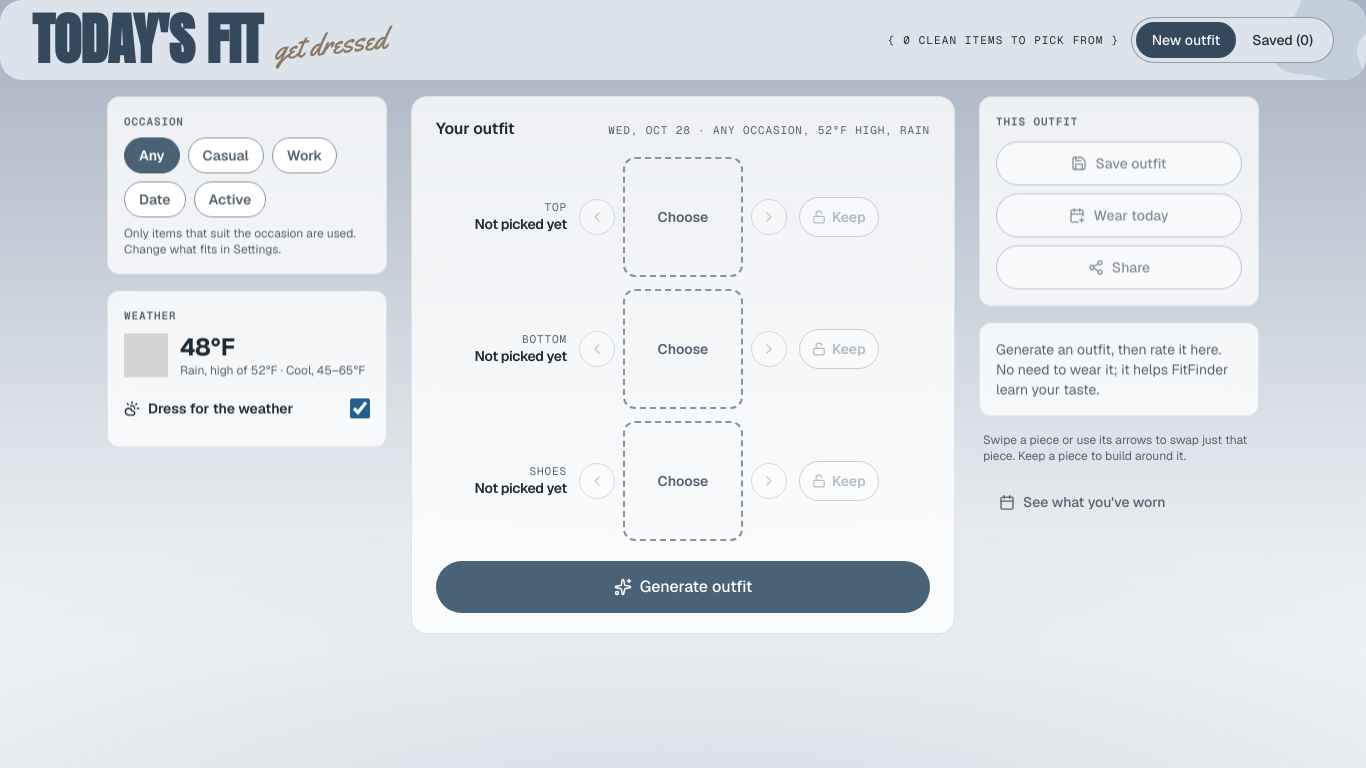
OutfitGenerator › shows today's weather behind the screen, until you stop dressing for it
The width and height of the screenshot is (1366, 768).
Click the switch labelled "Dress for the weather" at (360, 408), box [350, 398, 370, 418]
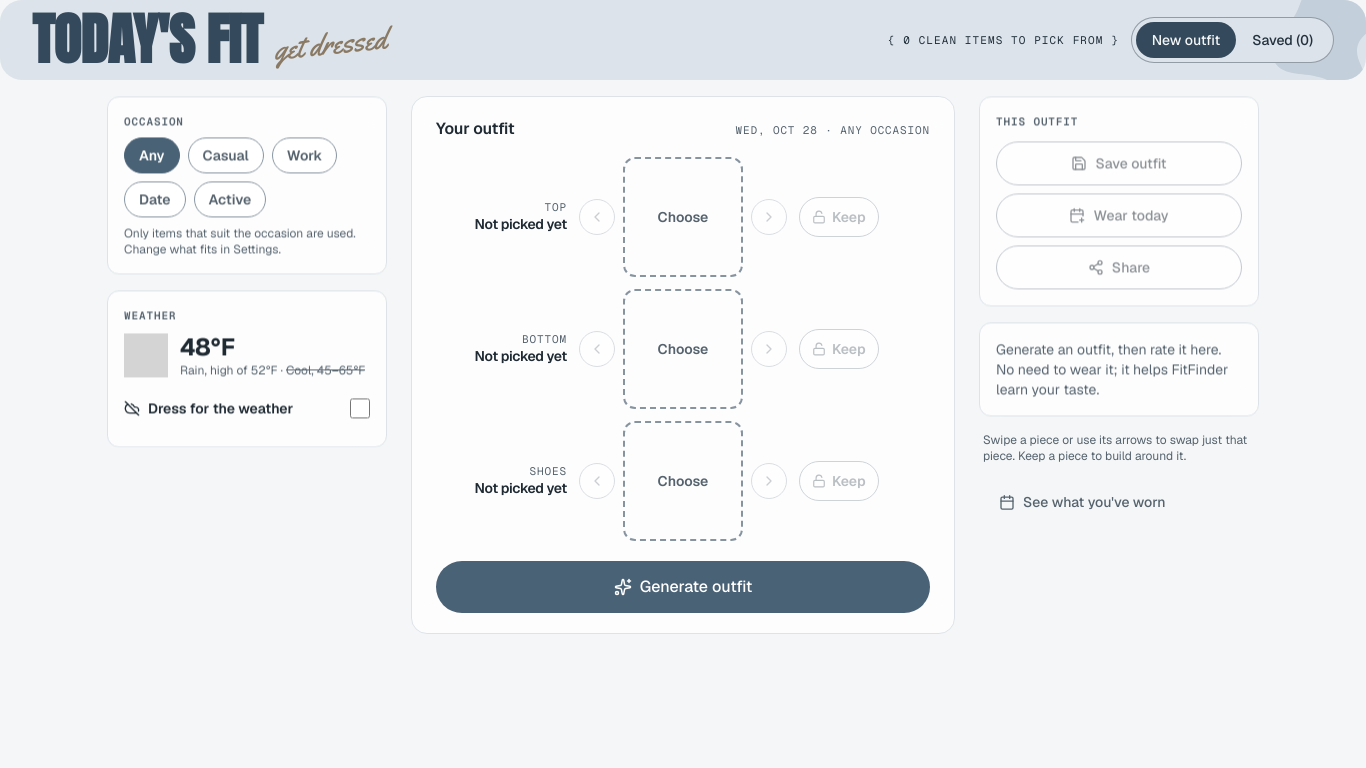
expect the element with test id "weather-backdrop" is gone: met
